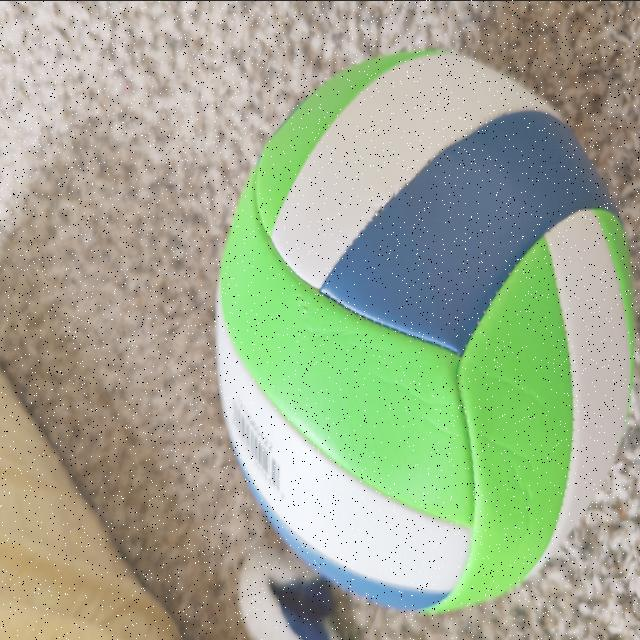ball: (211, 52, 639, 616)
